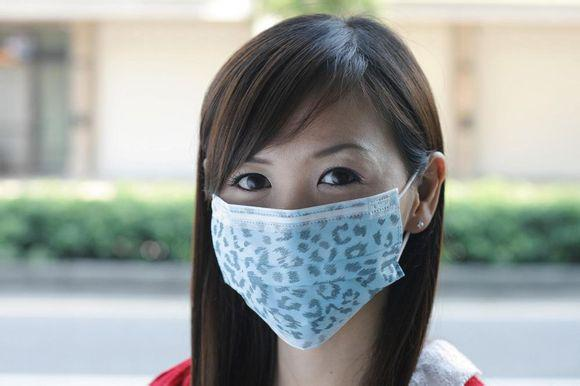OK: (212, 145, 399, 327)
